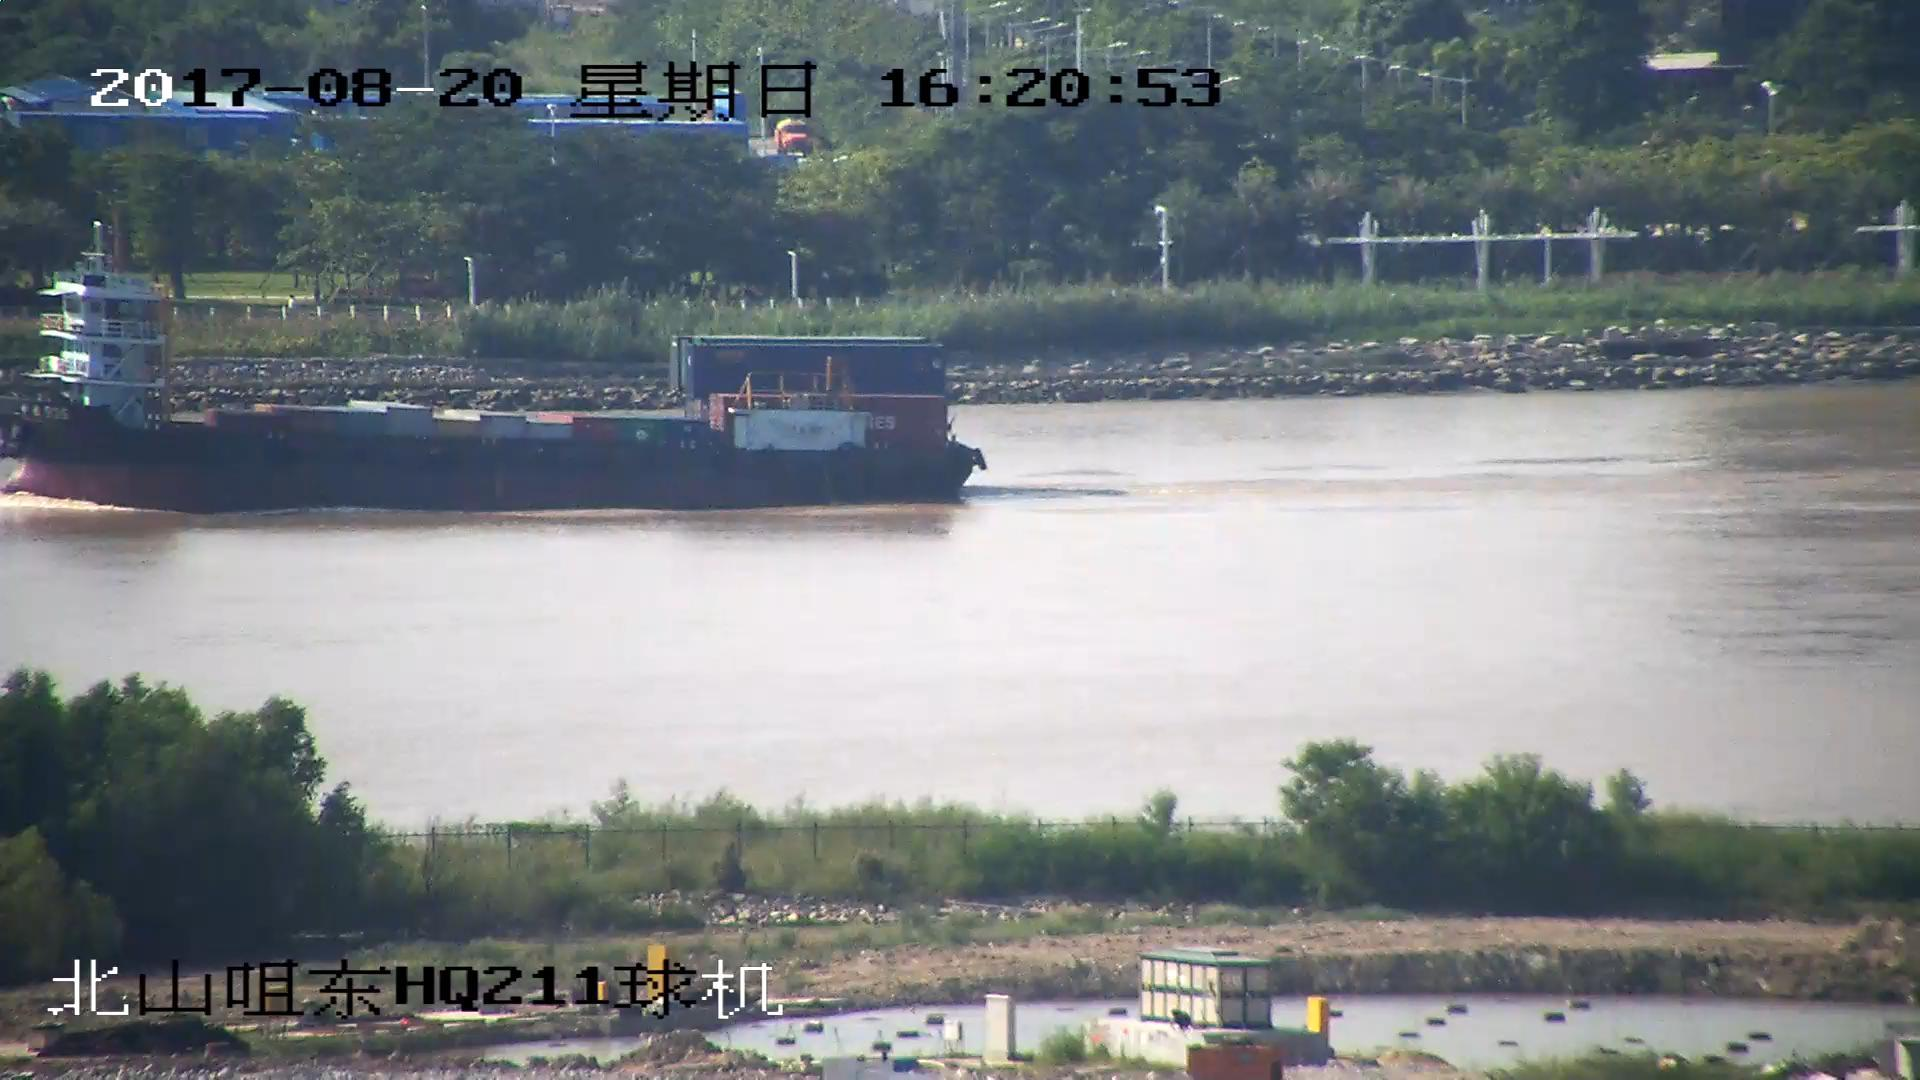Ship: (9, 215, 989, 513)
